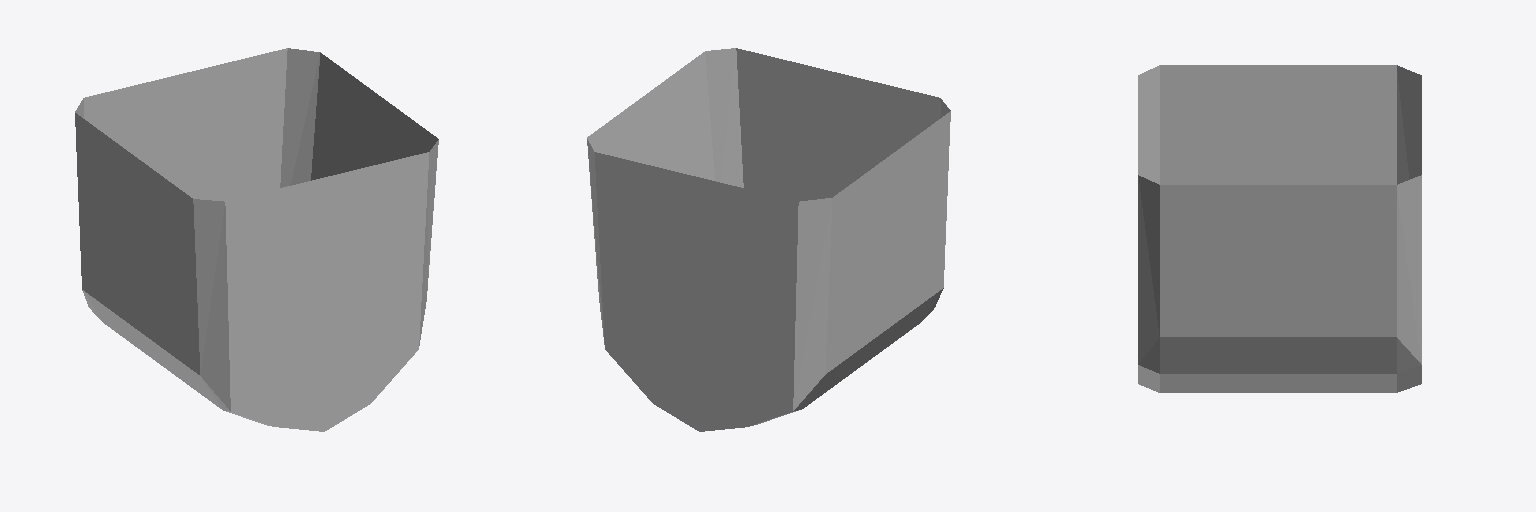
File: rd_a11c_notop.obj
The picture shows the model from 3 angles: view 1: azimuth 30°, elevation 25°; view 2: azimuth 150°, elevation 25°; view 3: azimuth 270°, elevation 25°; orthographic projection.
Visible parts, largest first — view 1: polySurface10; view 2: polySurface10; view 3: polySurface10.
Boxes of the visible parts, x1,y1,x2,y2 form: polySurface10: [75, 48, 438, 431]; polySurface10: [587, 48, 950, 431]; polySurface10: [1138, 65, 1421, 392].
Bounding box in the file's own units: 100 × 102 × 100.